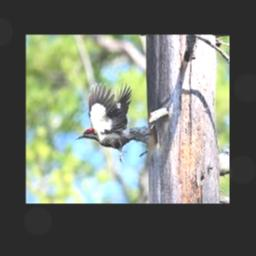Woodpecker: (74, 82, 152, 163)
